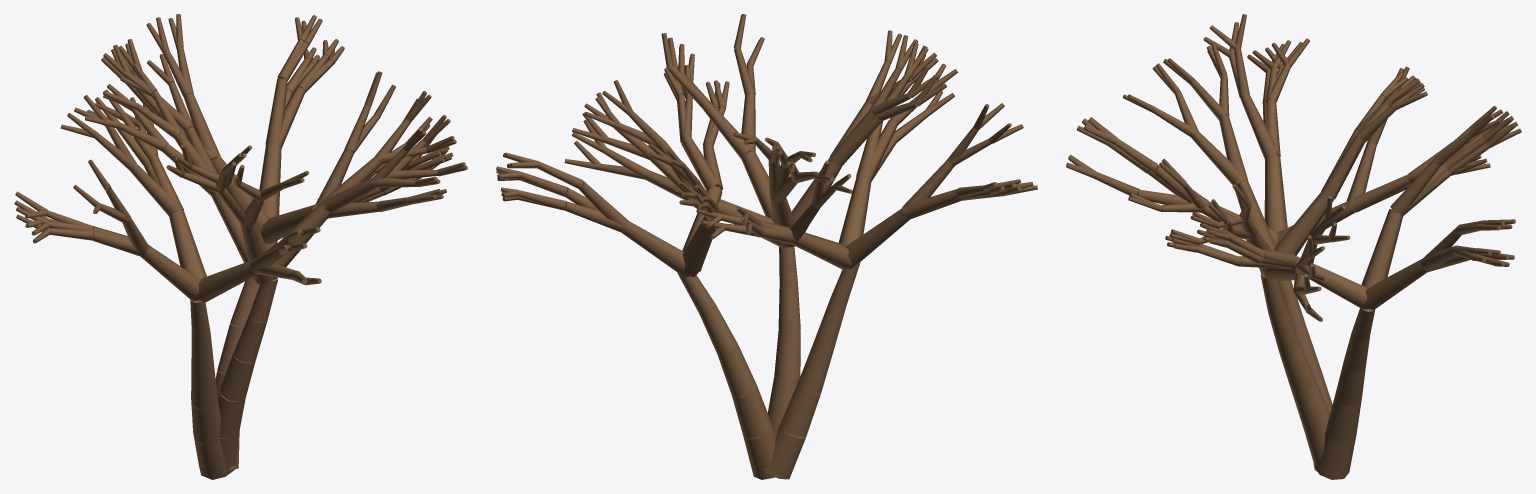
Rendered from husos-som-tel.glb.
3 renders of one model, left to right at view 1: azimuth 30°, elevation 25°; view 2: azimuth 150°, elevation 25°; view 3: azimuth 270°, elevation 25°, orthographic. The views are drawn at different scales.
Parts seen in each view (by area): view 1: gally-8-2 (×2), gally-7-2 (×2), gally-0-2 (×2), gally-7-1, gally-4-1, gally-1-1, gally-8-1, to-3-3, to-1-2, gally-2-1, to-3-4, to-1-1 (+16 smaller); view 2: gally-0-2 (×2), gally-4-2 (×2), gally-8-2 (×2), to-2-2, gally-1-1, gally-4-1, to-1-2, gally-8-1, gally-1-2 (×2), to-1-1, to-2-3, to-3-3 (+16 smaller); view 3: gally-3-2 (×2), gally-7-2 (×2), gally-5-1, gally-4-1, gally-4-2 (×2), gally-6-1, gally-8-1, to-2-1, to-3-2, to-2-2, gally-2-1, to-3-3 (+11 smaller).
Boxes of the visible parts, bbox=[...] form: gally-8-2 (×2): bbox=[265, 78, 305, 147]; gally-7-2 (×2): bbox=[129, 155, 183, 215]; gally-0-2 (×2): bbox=[322, 156, 381, 213]; gally-7-1: bbox=[169, 208, 206, 279]; gally-4-1: bbox=[141, 245, 200, 300]; gally-1-1: bbox=[195, 259, 257, 303]; gally-8-1: bbox=[259, 143, 281, 217]; to-3-3: bbox=[219, 352, 255, 401]; to-1-2: bbox=[191, 399, 220, 445]; gally-2-1: bbox=[261, 204, 315, 244]; to-3-4: bbox=[234, 314, 267, 363]; to-1-1: bbox=[193, 434, 228, 479]; gally-0-2 (×2): bbox=[701, 93, 755, 157]; gally-4-2 (×2): bbox=[902, 160, 959, 217]; gally-8-2 (×2): bbox=[564, 181, 628, 232]; to-2-2: bbox=[732, 385, 771, 438]; gally-1-1: bbox=[838, 175, 871, 245]; gally-4-1: bbox=[845, 208, 909, 269]; to-1-2: bbox=[779, 384, 820, 437]; gally-8-1: bbox=[622, 221, 689, 277]; gally-1-2 (×2): bbox=[856, 119, 897, 180]; to-1-1: bbox=[766, 427, 805, 479]; to-2-3: bbox=[717, 345, 756, 397]; to-3-3: bbox=[774, 330, 800, 378]; gally-3-2 (×2): bbox=[1191, 115, 1247, 185]; gally-7-2 (×2): bbox=[1346, 141, 1411, 212]; gally-5-1: bbox=[1361, 209, 1403, 289]; gally-4-1: bbox=[1264, 154, 1287, 232]; gally-4-2 (×2): bbox=[1240, 95, 1280, 158]; gally-6-1: bbox=[1274, 192, 1333, 255]; gally-8-1: bbox=[1363, 259, 1427, 309]; to-2-1: bbox=[1314, 430, 1356, 479]; to-3-2: bbox=[1291, 382, 1330, 432]; to-2-2: bbox=[1326, 395, 1361, 441]; gally-2-1: bbox=[1291, 255, 1368, 309]; to-3-3: bbox=[1279, 345, 1316, 392].
Size of the model in its own units: 4.31 by 3.71 by 3.93.
